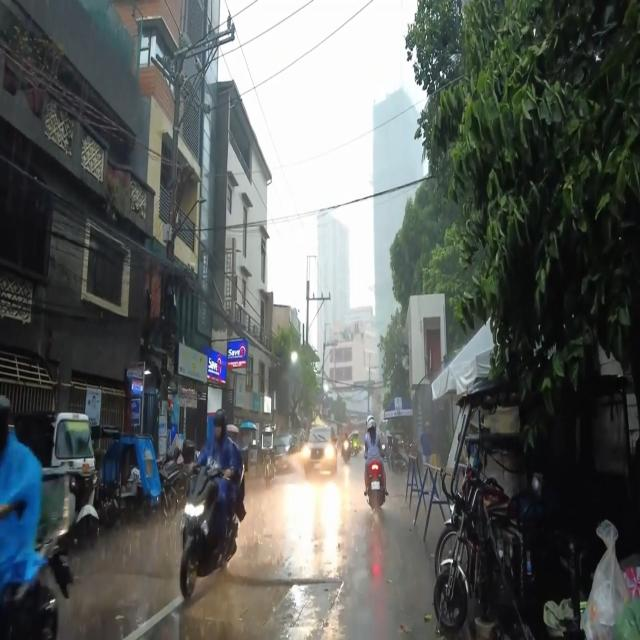half: (212, 408, 226, 442)
